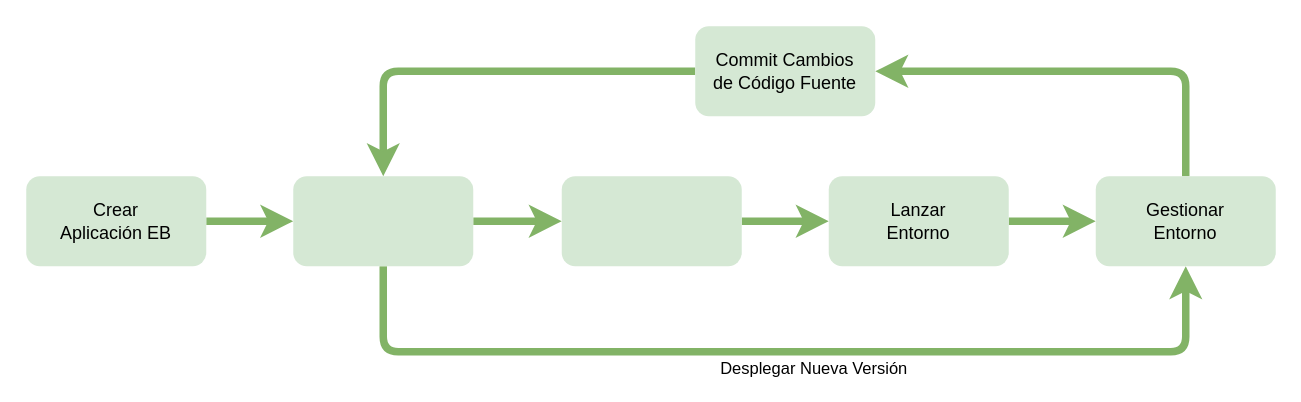
Image size: 1301x402. Some labels were removed from this diagram. The centre of each missing label's shape, as x and y in pixels:
"Cargar Aplicación en EB" goes at pixel 651 221.
"Subir Versión a S3" goes at pixel 382 221.
